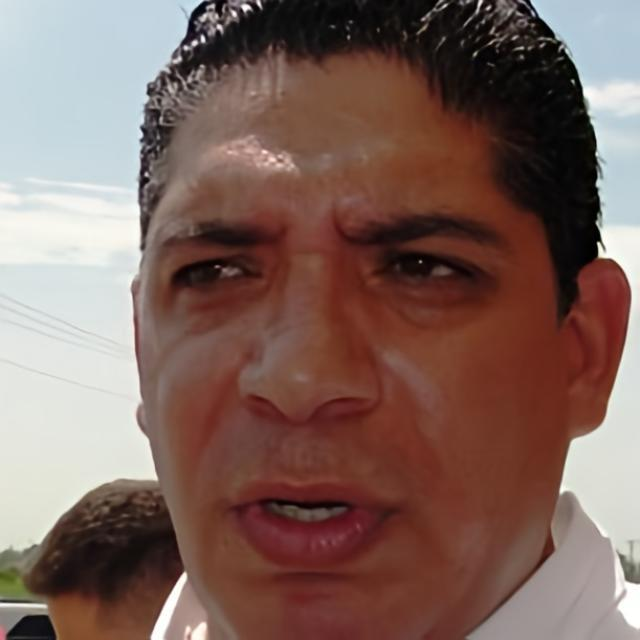anger: (141, 59, 562, 640)
